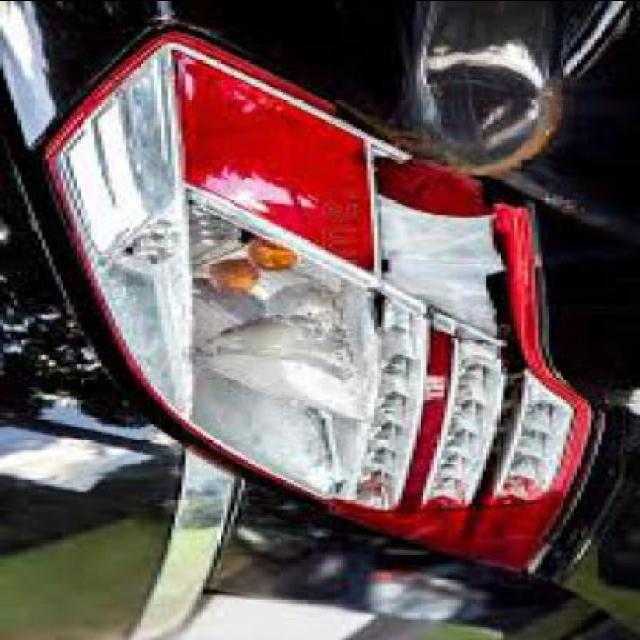Taillight-Damage: (39, 12, 637, 613)
